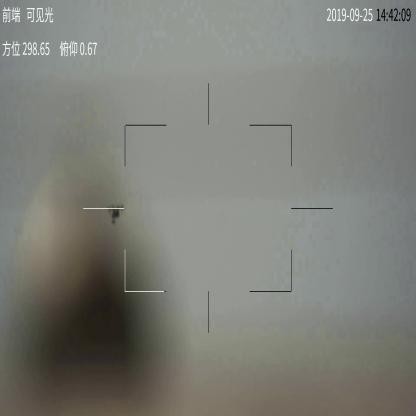uav: (104, 204, 126, 226)
